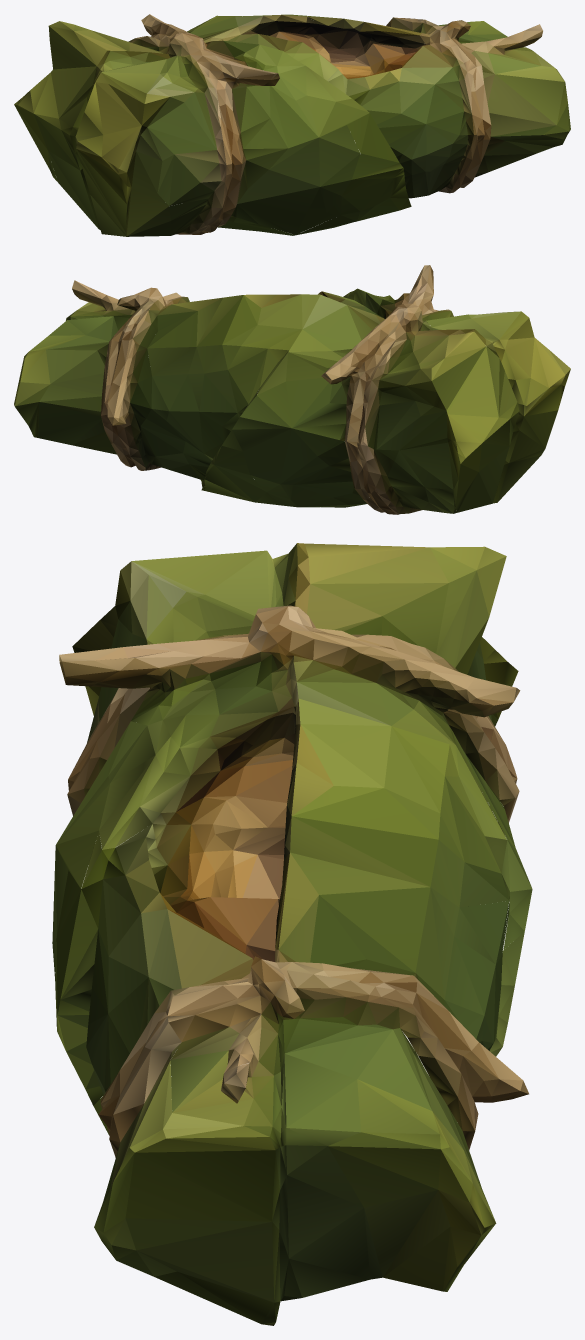
File: building-expedition-packedFood.glb
3 renders of one model, top to bottom at view 1: azimuth 30°, elevation 25°; view 2: azimuth 150°, elevation 25°; view 3: azimuth 270°, elevation 25°, orthographic. The views are drawn at different scales.
Parts seen in each view (by area): view 1: 0_expedition-packedFood; view 2: 0_expedition-packedFood; view 3: 0_expedition-packedFood.
Boxes of the visible parts, left/top/right/bottom form: 0_expedition-packedFood: left=14, top=14, right=570, bottom=236; 0_expedition-packedFood: left=14, top=265, right=570, bottom=514; 0_expedition-packedFood: left=52, top=543, right=532, bottom=1325.
Bounding box in the file's own units: 0.3 × 0.1384 × 0.1364.
